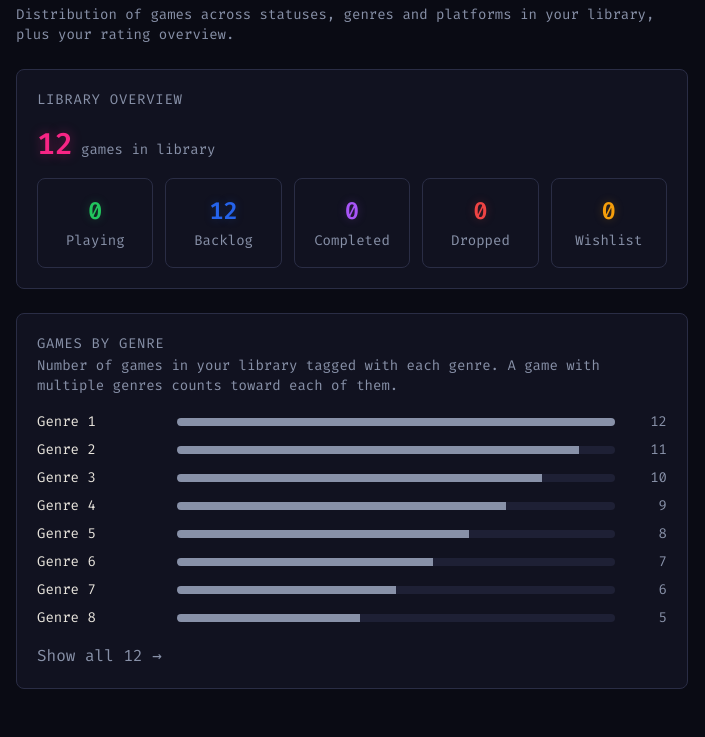
Test: Statistics page › toggles show all when there are more than 8 genres
Expected: the text "Genre 1" is shown, [37,412,96,431]
Expected: the text "Genre 12" is not shown
Click the button "Show all 12 →".
click(99, 656)  # box [37,644,162,668]
(page scrolled)
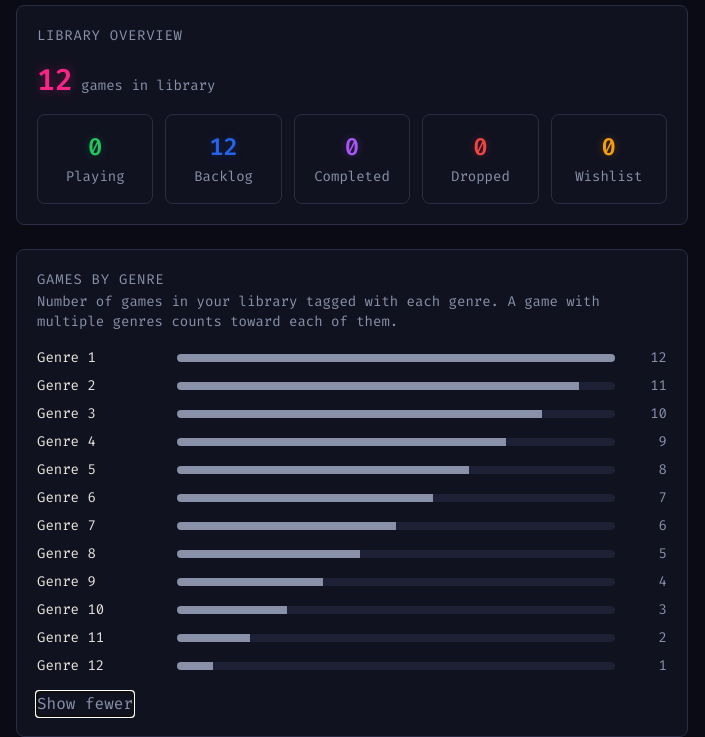
Result: the text "Genre 12" is shown at [37,656,104,675]
Click the button "Show fewer".
click(85, 704)  # box [37,692,133,716]
(page scrolled)
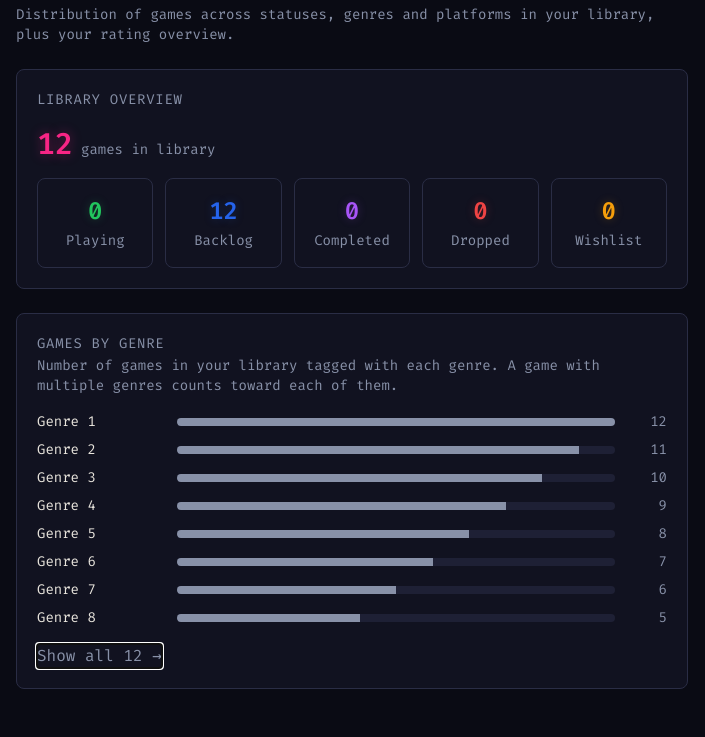
Result: the text "Genre 12" is gone
